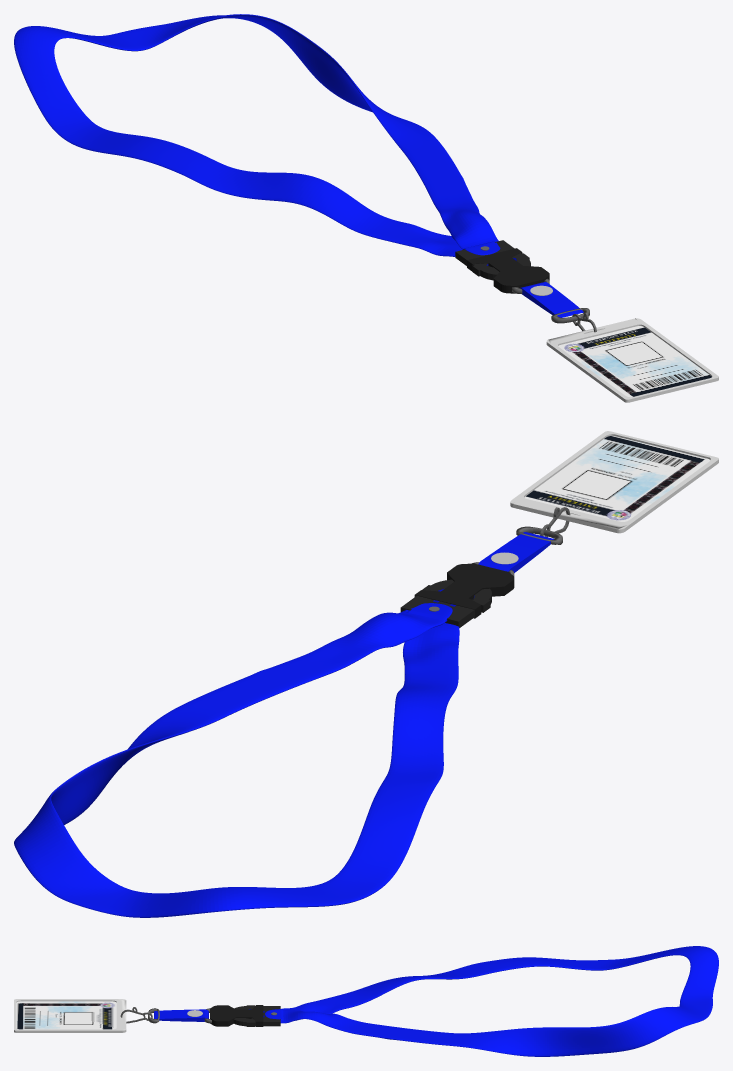
The model's file is IDv4.fbx.
The picture shows the model from 3 angles, top to bottom: view 1: azimuth 30°, elevation 25°; view 2: azimuth 150°, elevation 25°; view 3: azimuth 270°, elevation 25°; orthographic projection. The views are drawn at different scales.
Visible parts, largest first — view 1: Plane.009, Plane.003, Plane.001; view 2: Plane.009, Plane.003, Plane.001; view 3: Plane.009, Plane.001, Plane.003.
Boxes of the visible parts, x1,y1,x2,y2 form: Plane.009: (14, 14, 530, 280); Plane.003: (558, 326, 711, 397); Plane.001: (467, 248, 718, 402); Plane.009: (14, 579, 491, 917); Plane.003: (524, 436, 710, 521); Plane.001: (414, 431, 718, 618); Plane.009: (233, 946, 718, 1056); Plane.001: (14, 999, 263, 1032); Plane.003: (16, 1001, 116, 1029).
Size of the model in its own units: 74.44 by 12.92 by 239.
